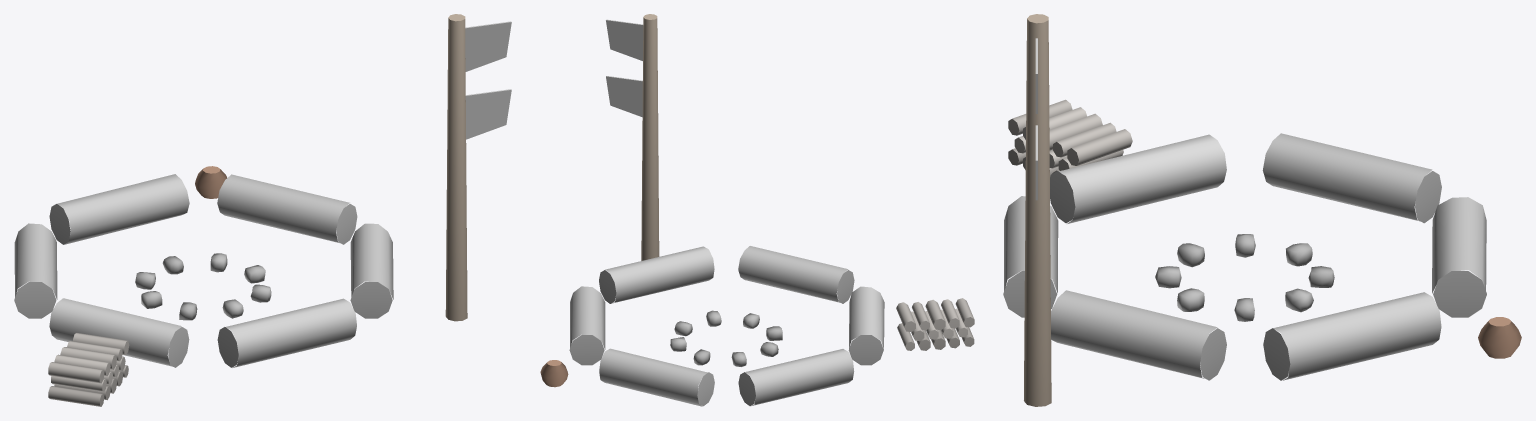
Rendered from hw_community_circle.glb.
The picture shows the model from 3 angles, left to right: view 1: azimuth 30°, elevation 25°; view 2: azimuth 150°, elevation 25°; view 3: azimuth 270°, elevation 25°; orthographic projection. The views are drawn at different scales.
Visible parts, largest first — view 1: Building; view 2: Building; view 3: Building.
Boxes of the visible parts, x1=… form: Building: x1=14, y1=14, x2=511, y2=406; Building: x1=540, y1=14, x2=974, y2=406; Building: x1=1003, y1=14, x2=1521, y2=406.
Size of the model in its own units: 4.2 by 2.65 by 3.26.
